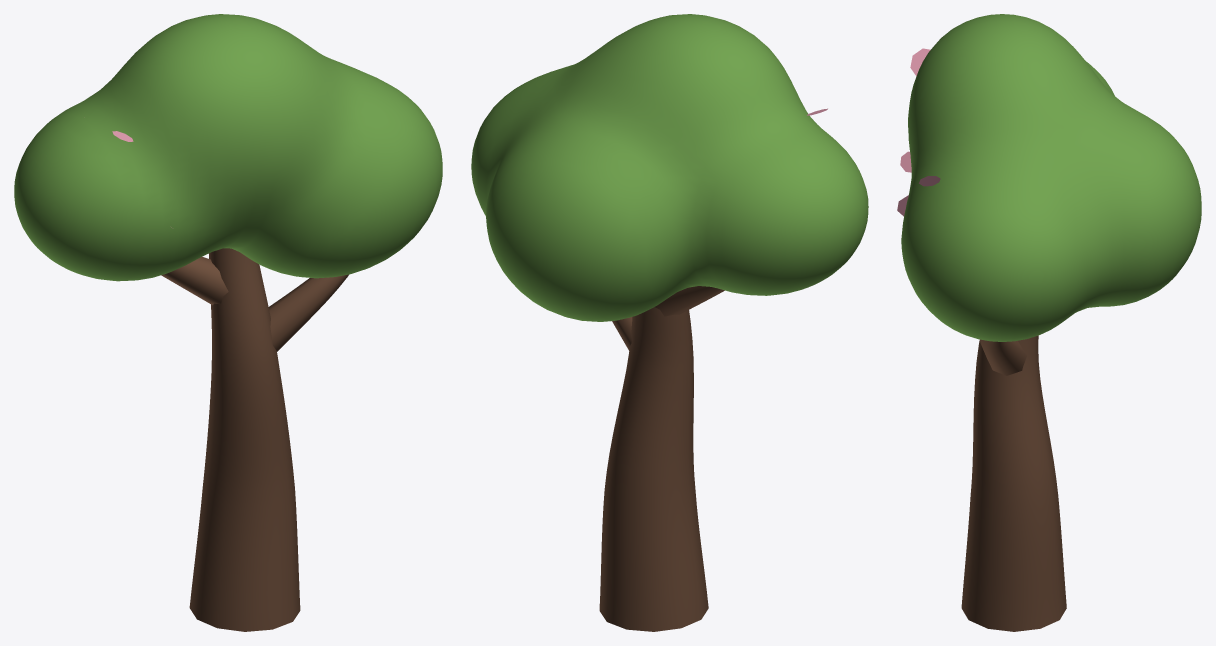
The model's file is tree_2.glb.
3 views of the same model, side by side, from view 1: azimuth 30°, elevation 25°; view 2: azimuth 150°, elevation 25°; view 3: azimuth 270°, elevation 25° (orthographic). The views are drawn at different scales.
Visible parts, largest first — view 1: tree_canopy, tree_trunk, tree_branch_0, tree_branch_1; view 2: tree_canopy, tree_trunk, tree_branch_1; view 3: tree_canopy, tree_trunk, tree_branch_0, tree_variant_2.
Part boxes in pixels (<box>): tree_canopy: <box>14,14,442,281</box>; tree_trunk: <box>189,248,300,631</box>; tree_branch_0: <box>268,274,349,351</box>; tree_branch_1: <box>161,256,228,305</box>; tree_canopy: <box>471,14,868,321</box>; tree_trunk: <box>599,307,708,631</box>; tree_branch_1: <box>655,286,724,316</box>; tree_canopy: <box>901,14,1201,341</box>; tree_trunk: <box>961,335,1066,631</box>; tree_branch_0: <box>980,339,1026,375</box>; tree_variant_2: <box>897,48,940,216</box>.
Bounding box in the file's own units: 3.43 × 5.01 × 2.43.
